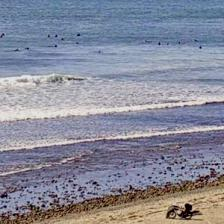surfer: (12, 48, 20, 52), (144, 40, 151, 43), (178, 42, 185, 45), (1, 32, 5, 36), (48, 46, 56, 48), (24, 47, 30, 49), (54, 34, 57, 38), (61, 38, 65, 41), (76, 42, 80, 45), (158, 42, 162, 45), (194, 40, 200, 42), (198, 47, 202, 50), (76, 34, 81, 36), (0, 35, 3, 38), (48, 34, 50, 38), (98, 51, 100, 53), (166, 43, 168, 45)
